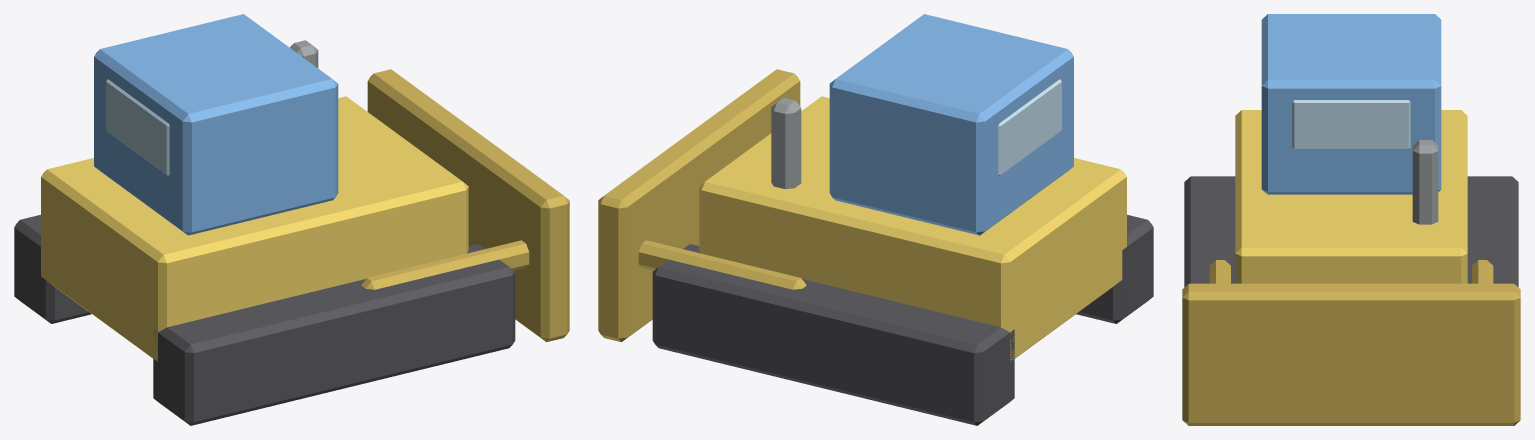
File: dozer.glb
3 renders of one model, left to right at view 1: azimuth 30°, elevation 25°; view 2: azimuth 150°, elevation 25°; view 3: azimuth 270°, elevation 25°, orthographic. The views are drawn at different scales.
Parts seen in each view (by area): view 1: coalition_dozer; view 2: coalition_dozer; view 3: coalition_dozer.
Part boxes in pixels (<box>): coalition_dozer: <box>14,14,569,425</box>; coalition_dozer: <box>598,14,1153,425</box>; coalition_dozer: <box>1182,14,1520,425</box>.
Bounding box in the file's own units: 1.98 × 1.35 × 1.6.
